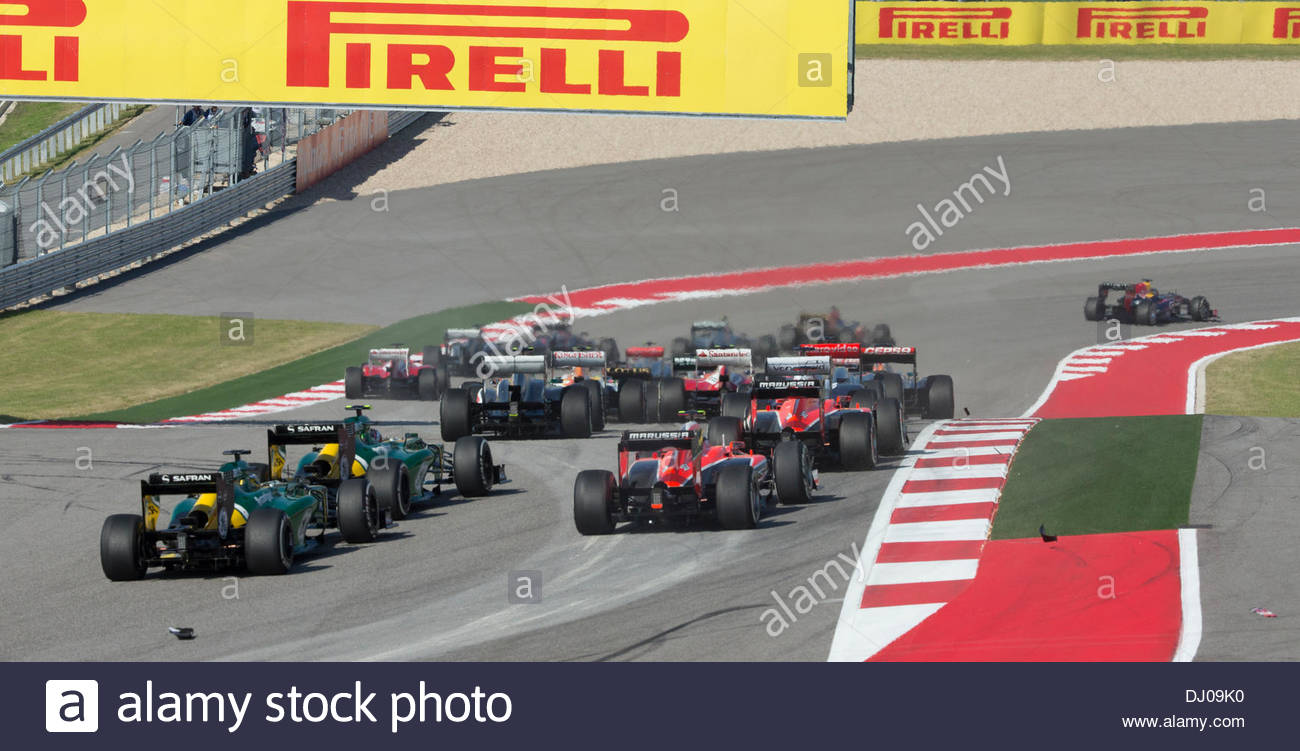f1_car: (80, 461, 340, 589), (206, 408, 421, 554), (566, 423, 825, 544), (701, 368, 912, 478), (429, 346, 612, 442), (1073, 267, 1230, 338), (339, 340, 457, 403)
